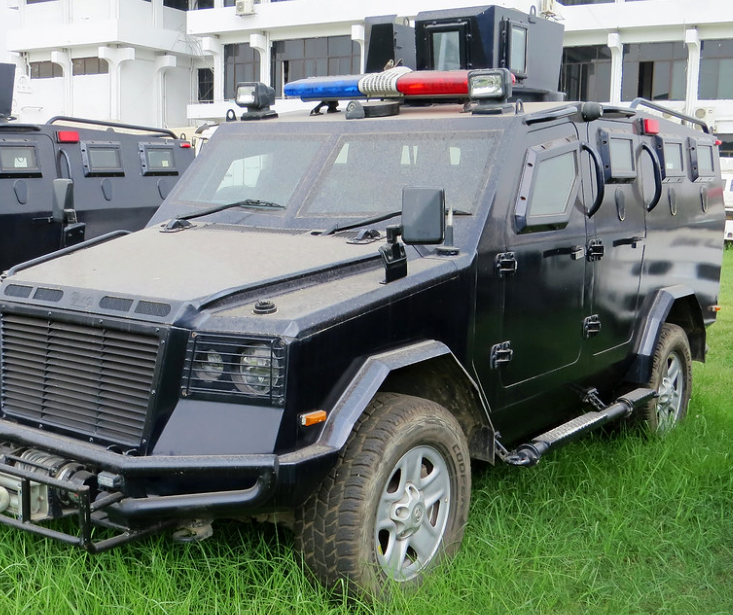Police cars: (1, 70, 721, 592), (0, 99, 194, 250)
